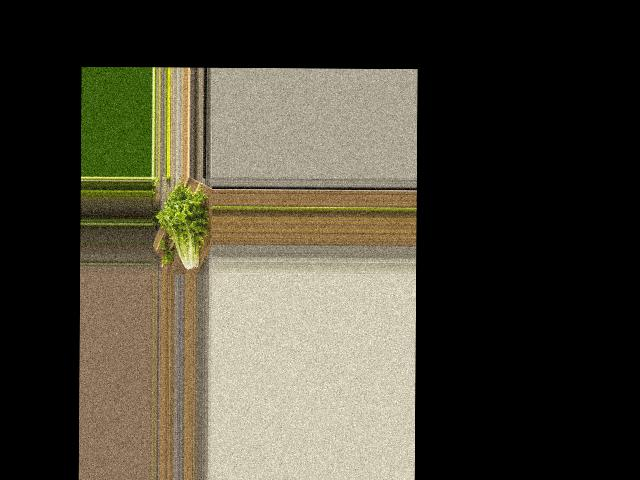lettuce: (157, 185, 209, 274)
